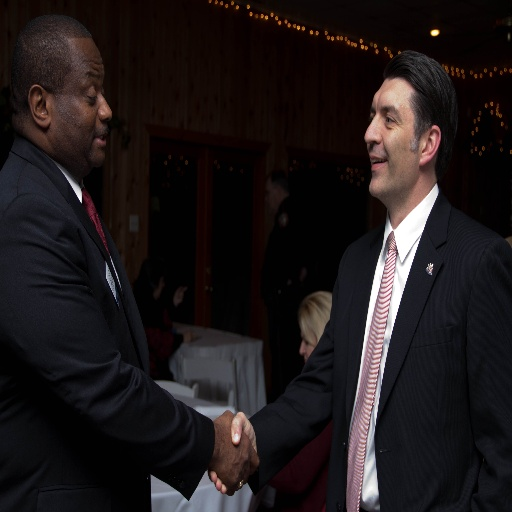hand: (208, 412, 257, 496), (173, 285, 187, 306), (183, 329, 193, 346)
